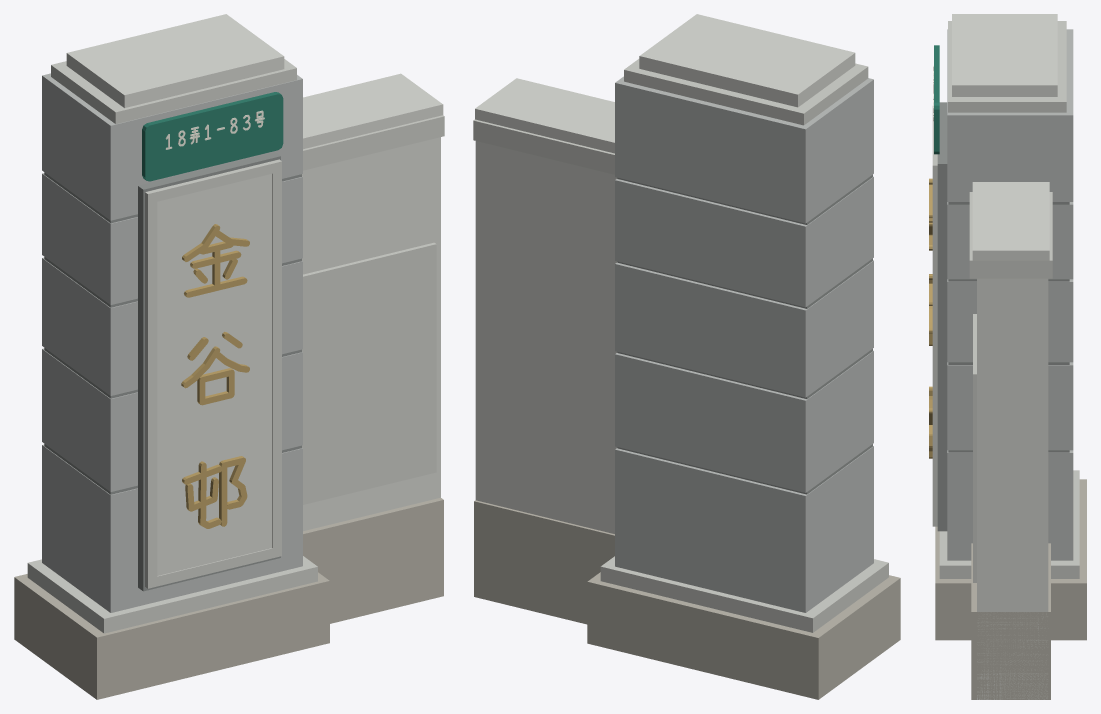
The model's file is huangpu-jingu-village-shaoxing-gatepost-lod.glb.
The picture shows the model from 3 angles, left to right: view 1: azimuth 30°, elevation 25°; view 2: azimuth 150°, elevation 25°; view 3: azimuth 270°, elevation 25°; orthographic projection. The views are drawn at different scales.
Visible parts, largest first — view 1: 金谷邨绍兴路18弄南入口题名门柱; view 2: 金谷邨绍兴路18弄南入口题名门柱; view 3: 金谷邨绍兴路18弄南入口题名门柱.
Part boxes in pixels (x1,y1,x2,y2): 金谷邨绍兴路18弄南入口题名门柱: (14, 14, 444, 699); 金谷邨绍兴路18弄南入口题名门柱: (473, 14, 900, 699); 金谷邨绍兴路18弄南入口题名门柱: (929, 14, 1086, 699).
Bounding box in the file's own units: 1.35 × 2.08 × 0.552.
